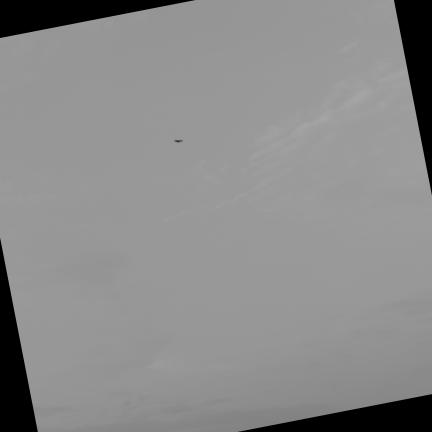Shahed: (174, 140, 183, 142)
